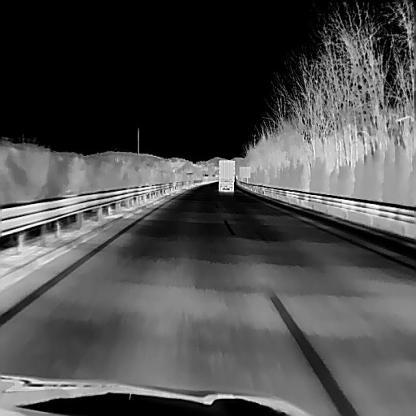car: (218, 158, 235, 191)
